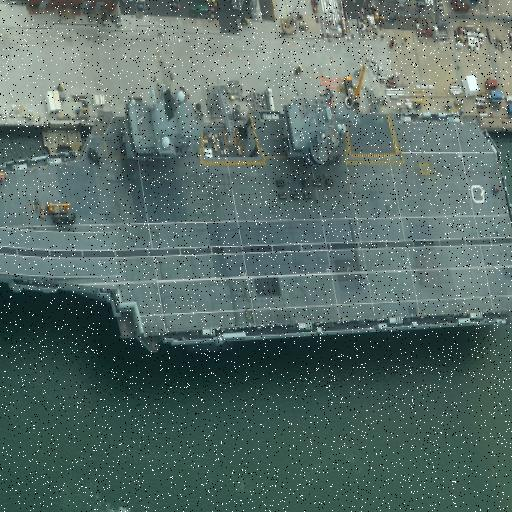Portanaves: (1, 71, 512, 360)
